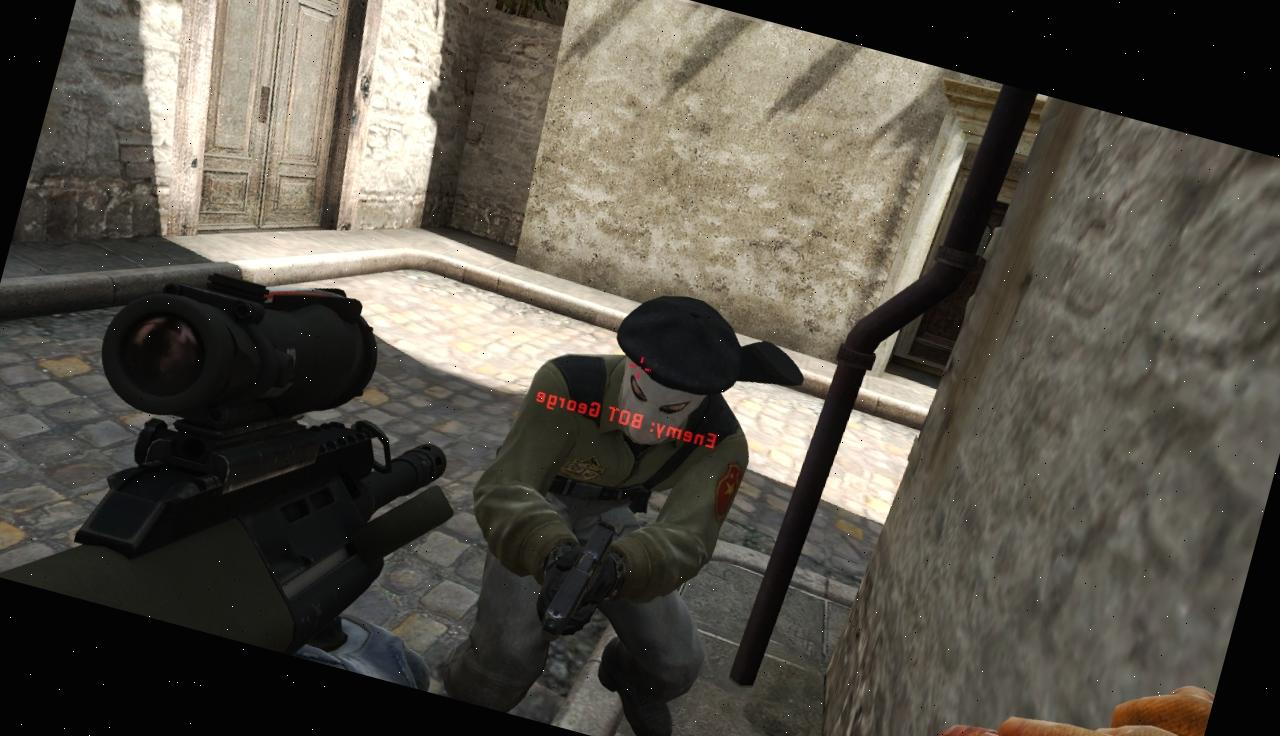rifle: (0, 208, 497, 686)
tt: (428, 256, 791, 736)
tthead: (604, 287, 741, 459)
